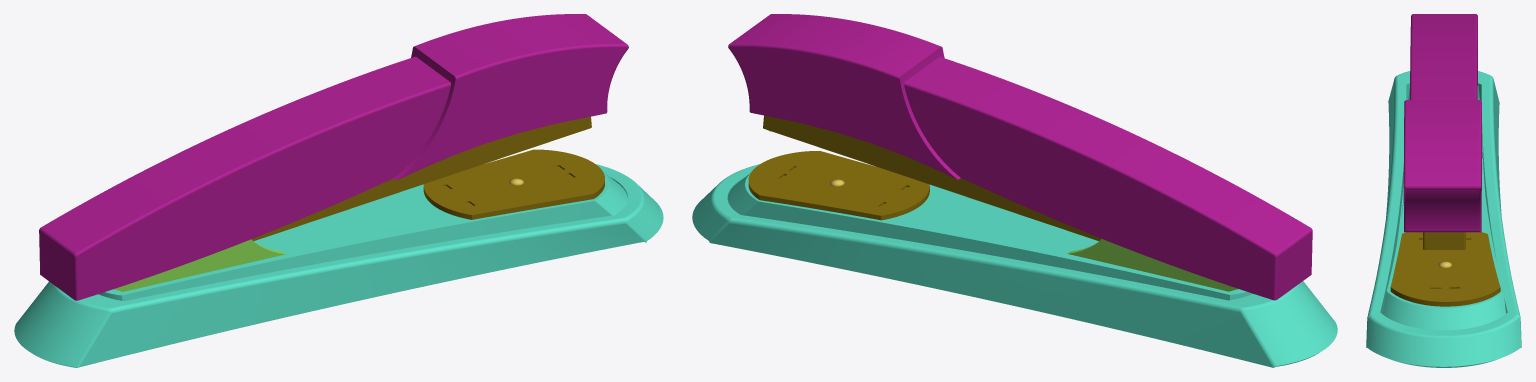
File: stapler.obj
3 renders of one model, left to right at view 1: azimuth 30°, elevation 25°; view 2: azimuth 150°, elevation 25°; view 3: azimuth 270°, elevation 25°, orthographic. The views are drawn at different scales.
Parts seen in each view (by area): view 1: Group_003, Group_001, Group_005, Group_008, Group_006, Difference_001; view 2: Group_003, Group_001, Group_005, Group_008, Group_006, Difference_001; view 3: Group_003, Group_001, Group_008, Group_005, Group_006.
Part boxes in pixels (<box>): Group_003: <box>39,14,628,300</box>; Group_001: <box>14,164,663,367</box>; Group_005: <box>98,172,627,301</box>; Group_008: <box>423,149,604,219</box>; Group_006: <box>251,116,591,241</box>; Difference_001: <box>114,239,285,291</box>; Group_003: <box>728,14,1312,300</box>; Group_001: <box>692,164,1337,367</box>; Group_005: <box>727,173,1252,300</box>; Group_008: <box>748,151,929,220</box>; Group_006: <box>763,115,1101,240</box>; Difference_001: <box>1067,239,1237,291</box>; Group_003: <box>1403,14,1482,232</box>; Group_001: <box>1366,71,1521,367</box>; Group_008: <box>1390,232,1500,306</box>; Group_005: <box>1382,83,1505,330</box>; Group_006: <box>1423,232,1465,249</box>.
Bounding box in the file's own units: 89.05 × 26.84 × 21.24.
